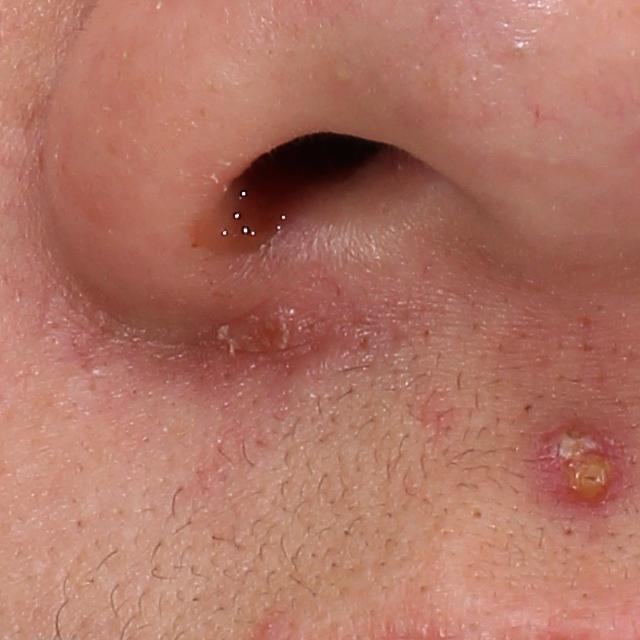comedo: (467, 506, 484, 521)
pustule: (540, 409, 628, 507)
